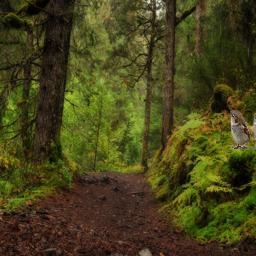Sparrow: (230, 110, 256, 150)
